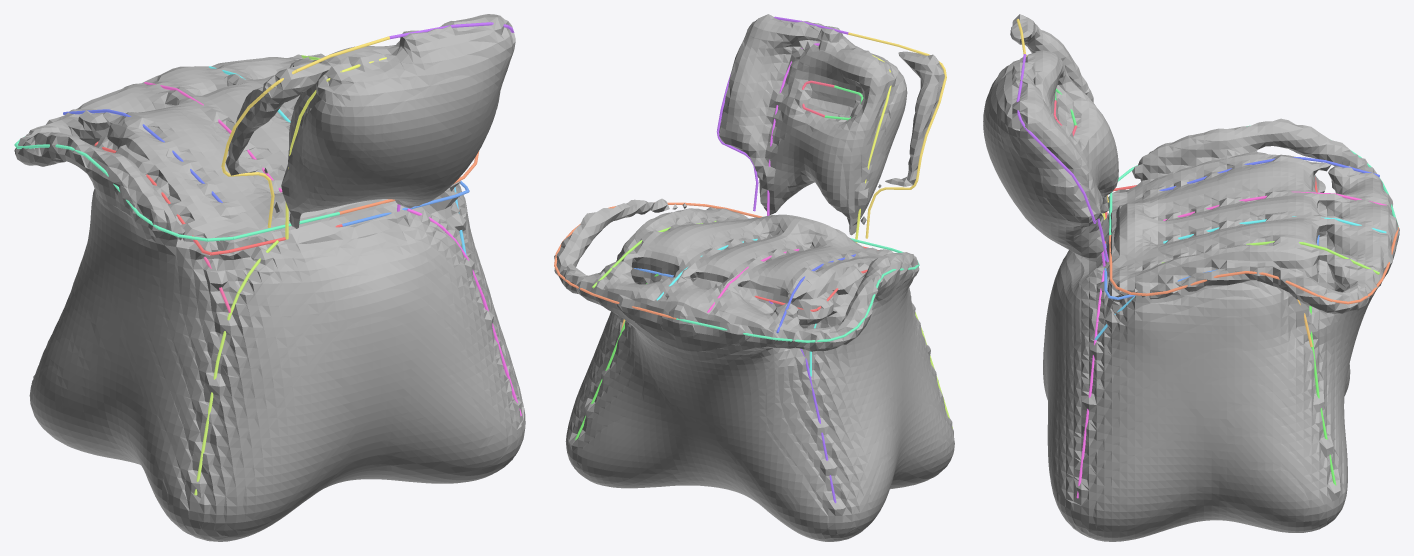
The model's file is author1_chair.gltf.
3 views of the same model, side by side, from view 1: azimuth 30°, elevation 25°; view 2: azimuth 150°, elevation 25°; view 3: azimuth 270°, elevation 25° (orthographic). The views are drawn at different scales.
Bounding box in the file's own units: 0.5667 × 0.7038 × 0.6145.
